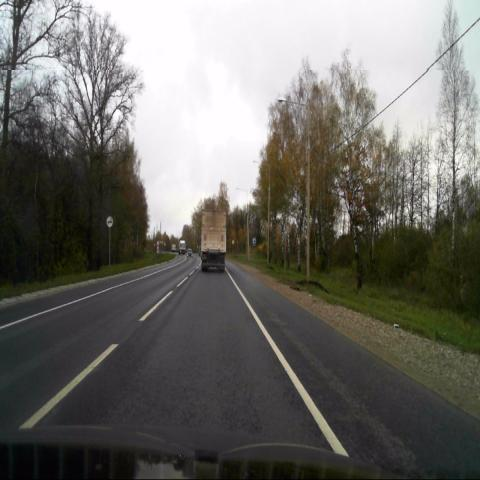3_21: (106, 216, 113, 228)
